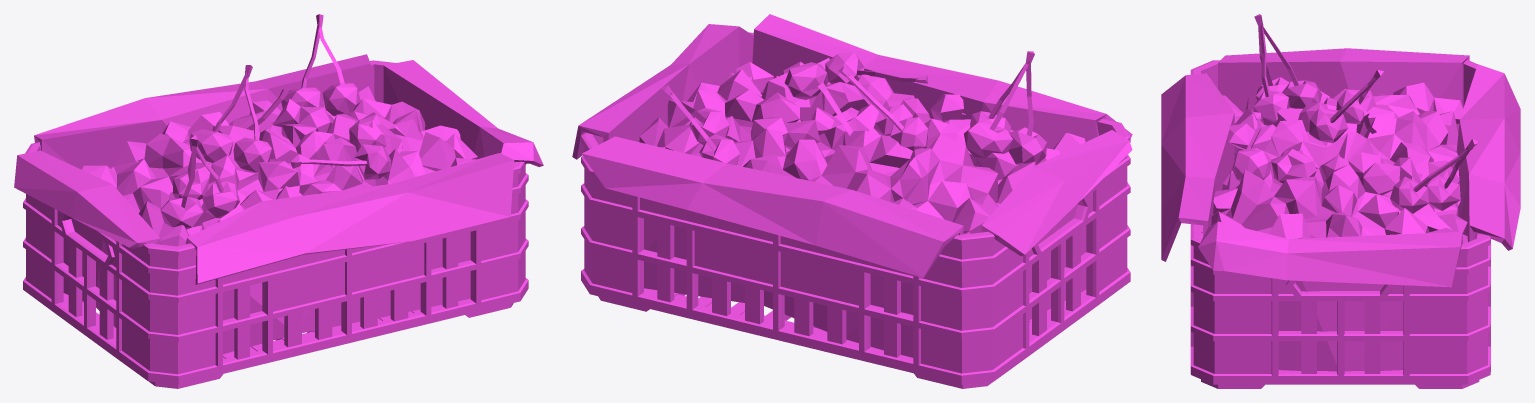
File: SM_Crate_Plastic_Small_Paper_Cherries.fbx
The picture shows the model from 3 angles, left to right: view 1: azimuth 30°, elevation 25°; view 2: azimuth 150°, elevation 25°; view 3: azimuth 270°, elevation 25°; orthographic projection. The views are drawn at different scales.
Parts seen in each view (by area): view 1: SM_Crate_Plastic_Small_Paper_Cherries; view 2: SM_Crate_Plastic_Small_Paper_Cherries; view 3: SM_Crate_Plastic_Small_Paper_Cherries.
Part boxes in pixels (x1,y1,x2,y2): SM_Crate_Plastic_Small_Paper_Cherries: (14,14,543,388); SM_Crate_Plastic_Small_Paper_Cherries: (572,14,1132,388); SM_Crate_Plastic_Small_Paper_Cherries: (1161,14,1520,388).
Size of the model in its own units: 0.663 by 0.3387 by 0.4887.
